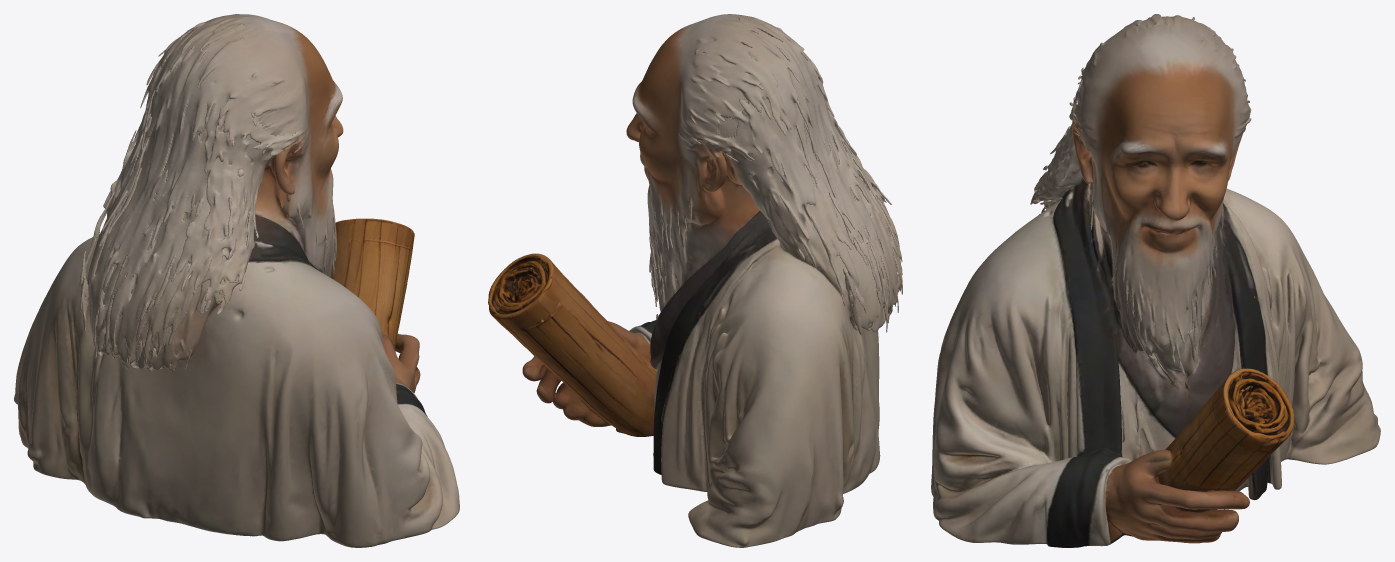
The model's file is laozi.glb.
3 renders of one model, left to right at view 1: azimuth 30°, elevation 25°; view 2: azimuth 150°, elevation 25°; view 3: azimuth 270°, elevation 25°, orthographic. The views are drawn at different scales.
Parts seen in each view (by area): view 1: tripo_node_9b4a467a-6566-4e3b-9aa7-8857570f7853; view 2: tripo_node_9b4a467a-6566-4e3b-9aa7-8857570f7853; view 3: tripo_node_9b4a467a-6566-4e3b-9aa7-8857570f7853.
Part boxes in pixels (x1,y1,x2,y2): tripo_node_9b4a467a-6566-4e3b-9aa7-8857570f7853: [14, 14, 459, 547]; tripo_node_9b4a467a-6566-4e3b-9aa7-8857570f7853: [488, 14, 902, 547]; tripo_node_9b4a467a-6566-4e3b-9aa7-8857570f7853: [931, 14, 1380, 547].
Size of the model in its own units: 0.8744 by 0.9999 by 0.8902.
1 material, 1 textured.
